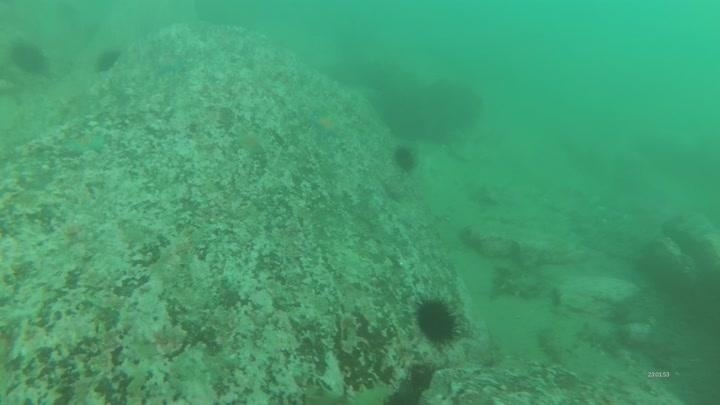echinus: (413, 295, 462, 347), (8, 38, 50, 76), (390, 143, 420, 174), (93, 46, 123, 75)
holothurian: (488, 266, 545, 302), (573, 320, 630, 356), (534, 323, 572, 368)
starfish: (60, 129, 109, 158), (307, 108, 345, 140), (232, 126, 269, 158), (153, 51, 190, 77), (549, 300, 576, 321)
